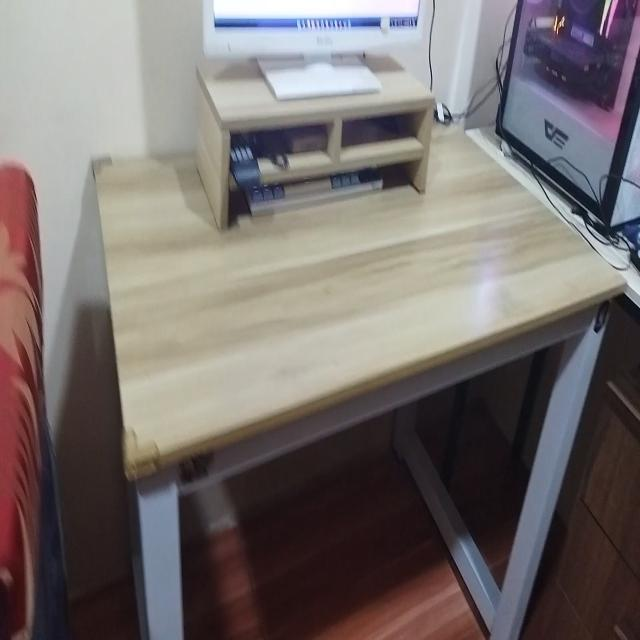table: (89, 111, 628, 640)
